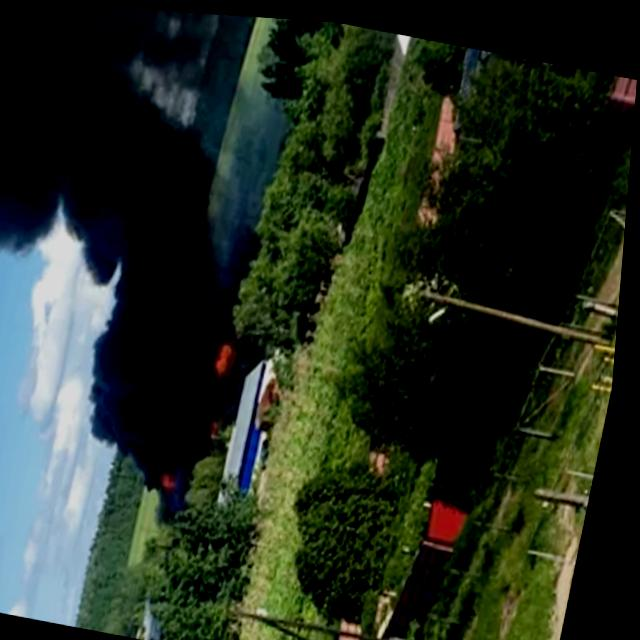no_helmet: (0, 0, 321, 540)
